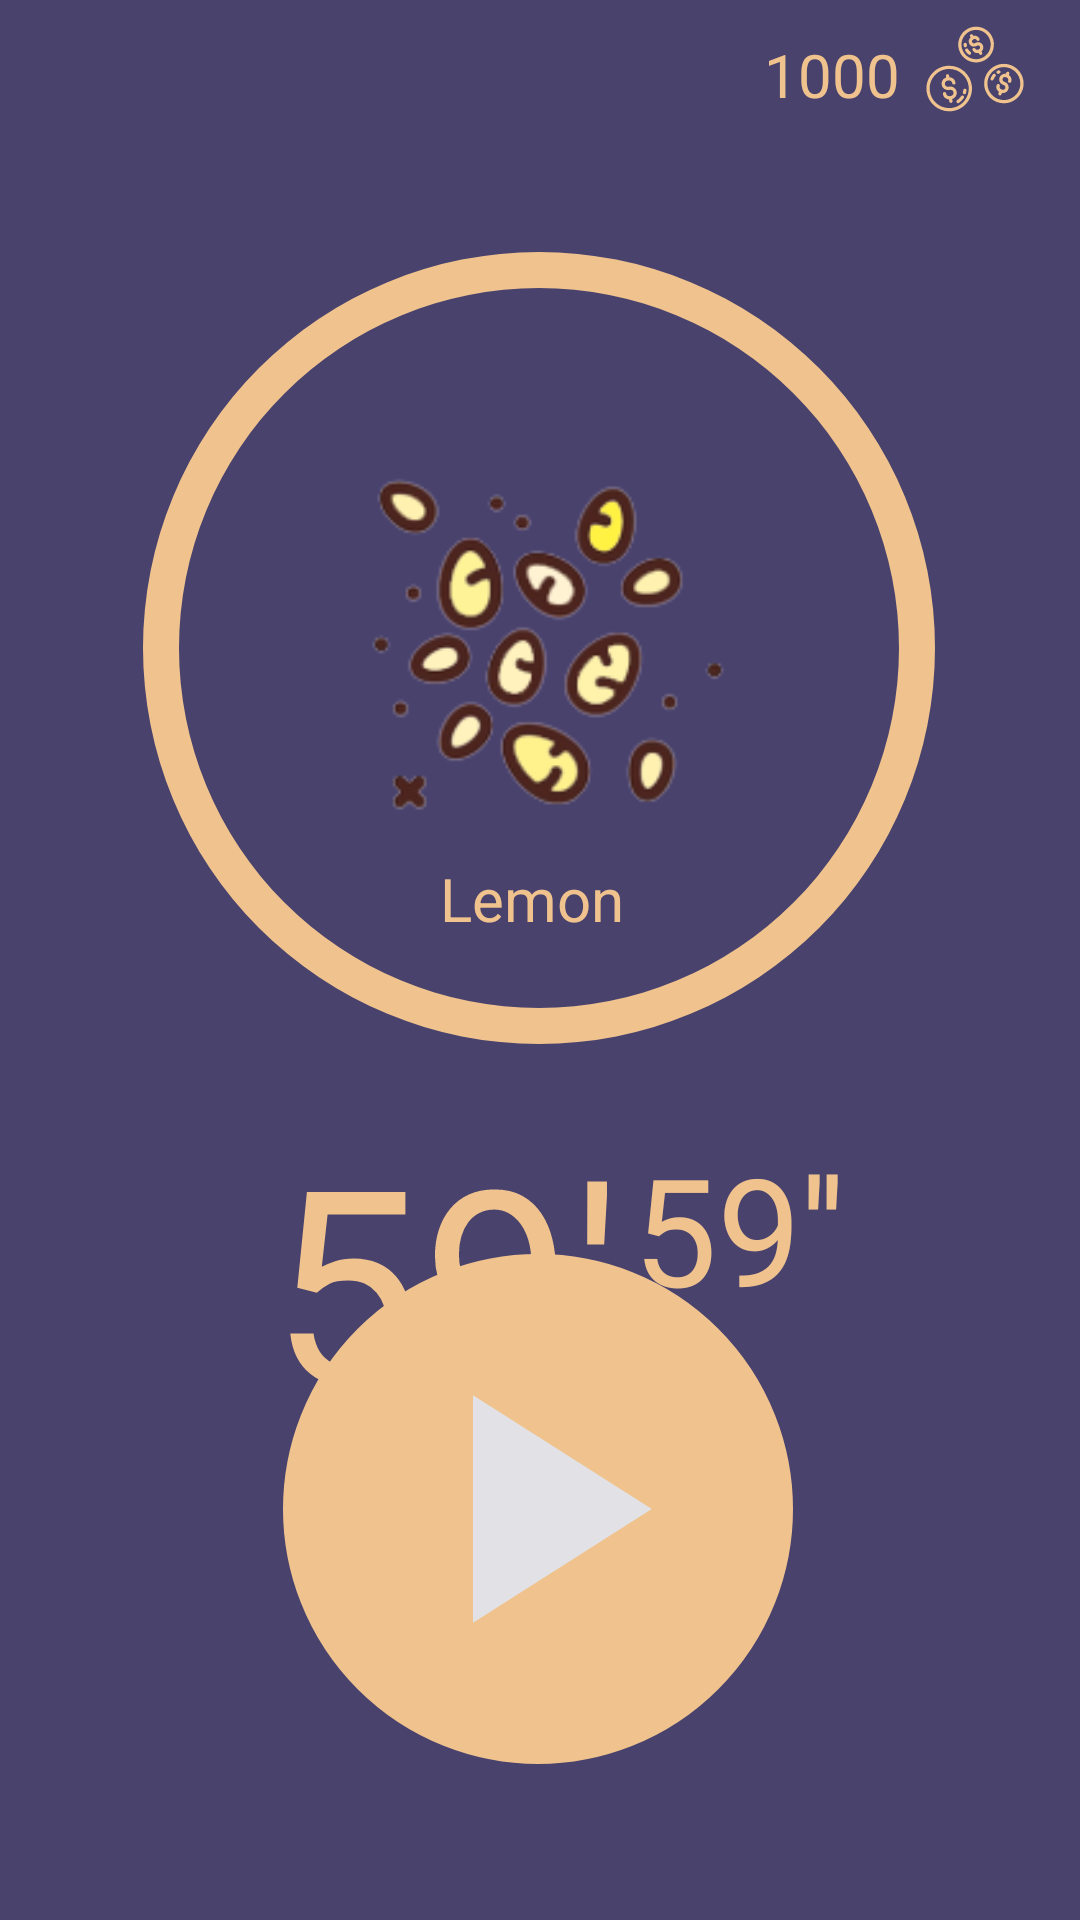

Named icons in this screenshot (1080 × 1920) and their centers, (x,y):
money: (975,69)
